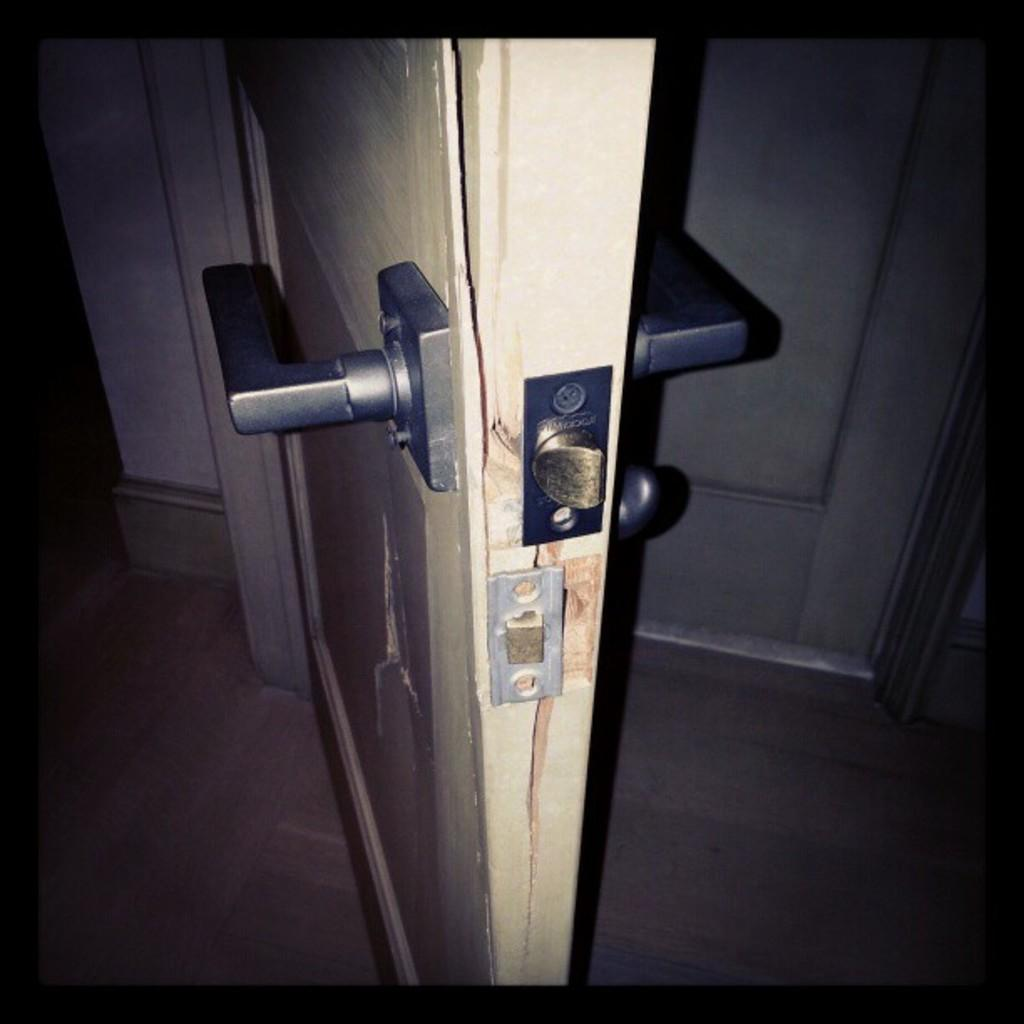door: (319, 34, 633, 958)
handle: (196, 226, 456, 481), (621, 244, 782, 406), (594, 458, 654, 553)
